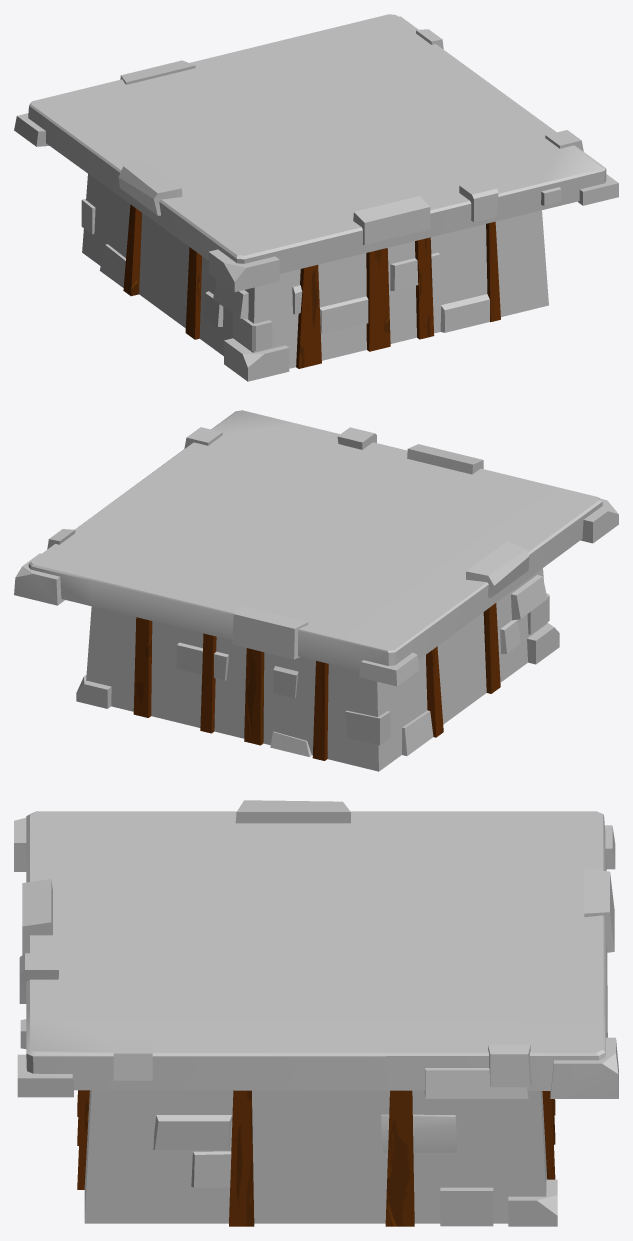
Rendered from SM_BLD_base_v04_02.fbx.
The picture shows the model from 3 angles, top to bottom: view 1: azimuth 30°, elevation 25°; view 2: azimuth 150°, elevation 25°; view 3: azimuth 270°, elevation 25°; orthographic projection. The views are drawn at different scales.
Visible parts, largest first — view 1: SM_BLD_base_v04_02; view 2: SM_BLD_base_v04_02; view 3: SM_BLD_base_v04_02.
Boxes of the visible parts, x1=… form: SM_BLD_base_v04_02: x1=14, y1=14, x2=618, y2=381; SM_BLD_base_v04_02: x1=14, y1=410, x2=618, y2=771; SM_BLD_base_v04_02: x1=14, y1=800, x2=618, y2=1226.
Size of the model in its own units: 621 by 235 by 620.
